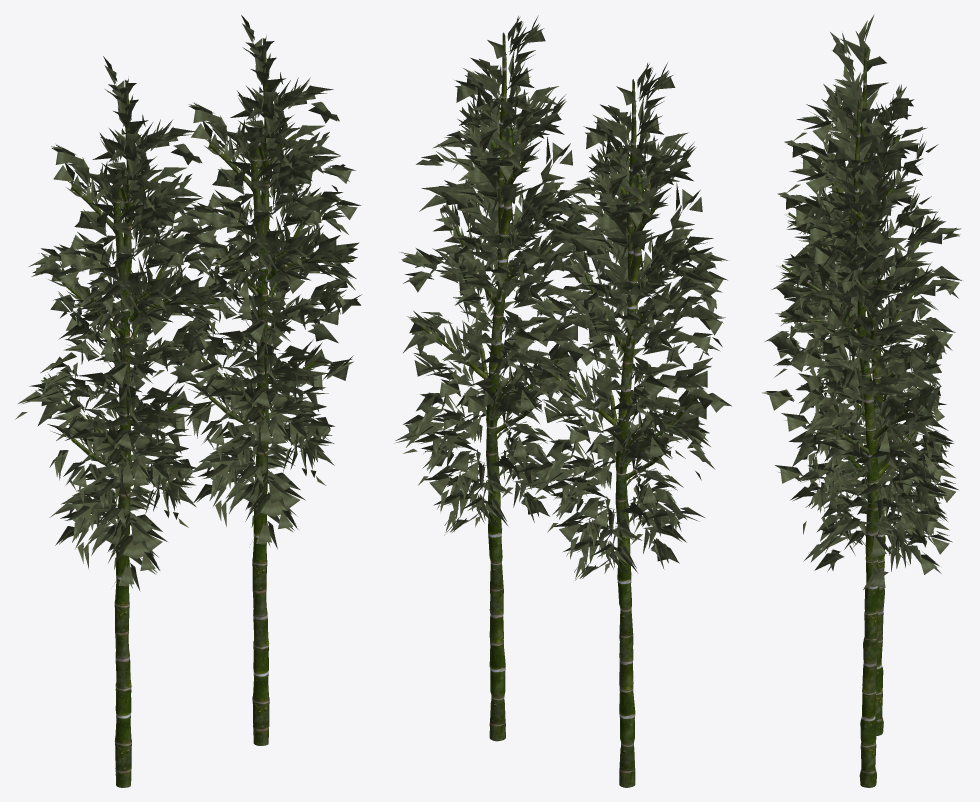
Rendered from bambu.obj.
The picture shows the model from 3 angles, left to right: view 1: azimuth 30°, elevation 25°; view 2: azimuth 150°, elevation 25°; view 3: azimuth 270°, elevation 25°; orthographic projection. The views are drawn at different scales.
Visible parts, largest first — view 1: Leaves.001; view 2: Leaves.001; view 3: Leaves.001.
Boxes of the visible parts, box(x1,y1,x2,y2) form: Leaves.001: box(15, 15, 361, 787); Leaves.001: box(395, 15, 731, 787); Leaves.001: box(762, 14, 961, 787).
Bounding box in the file's own units: 5.34 × 12.19 × 3.14.
